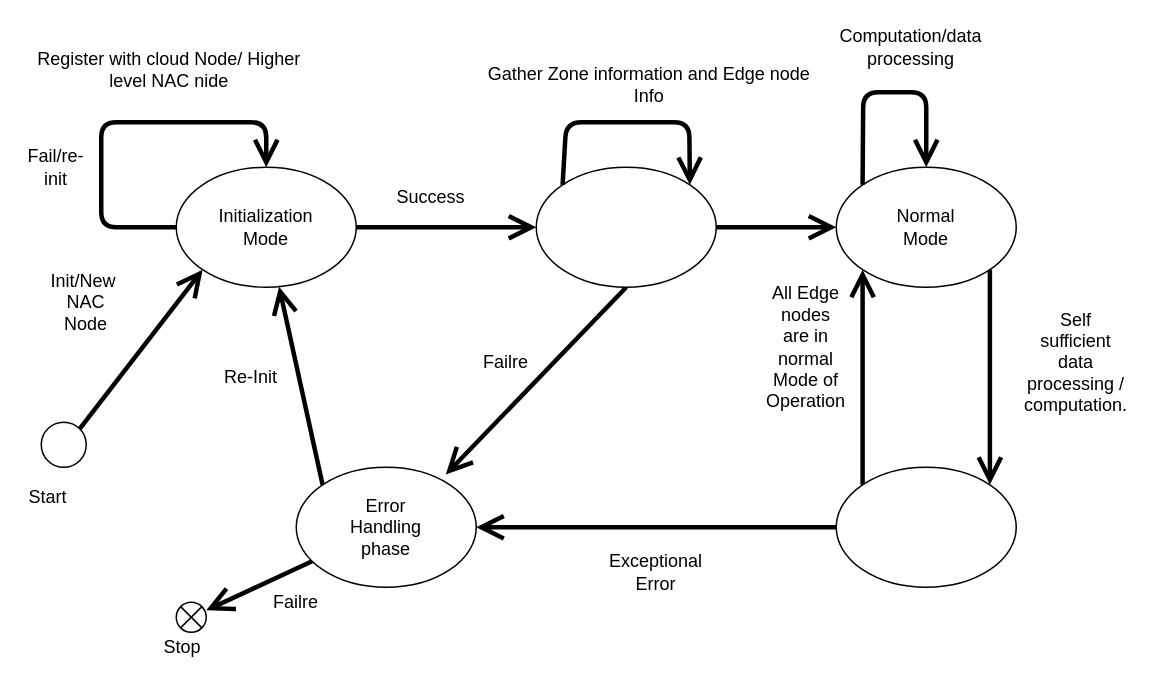
The diagram is 1154 pixels wide and 689 high, and some of its shapes have lost their labels. Each missing label, with the box of its shape:
Data Initialization Phase: (535, 166, 716, 287)
Standalone Mode: (835, 466, 1016, 587)
